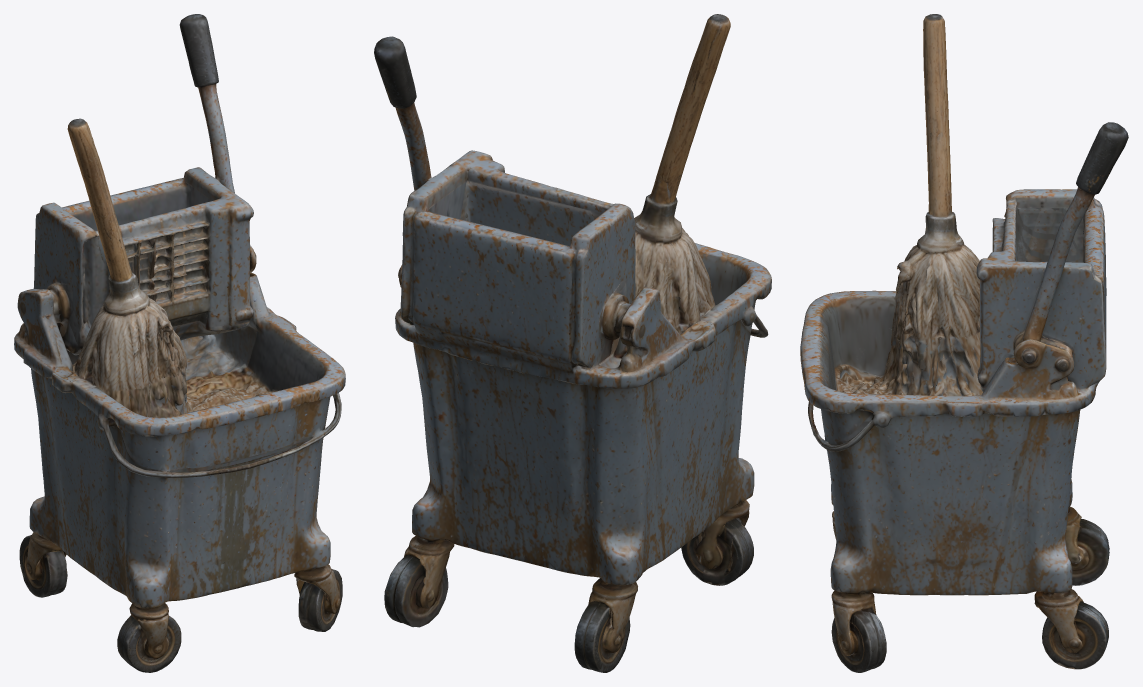
The model's file is MopBucket.fbx.
3 views of the same model, side by side, from view 1: azimuth 30°, elevation 25°; view 2: azimuth 150°, elevation 25°; view 3: azimuth 270°, elevation 25° (orthographic). The views are drawn at different scales.
Visible parts, largest first — view 1: texture_mapping; view 2: texture_mapping; view 3: texture_mapping.
Part boxes in pixels (left/top/right/bottom): texture_mapping: left=14, top=14, right=345, bottom=672; texture_mapping: left=374, top=14, right=771, bottom=672; texture_mapping: left=800, top=14, right=1128, bottom=672.
Size of the model in its own units: 0.4783 by 0.542 by 1.
1 material, 1 textured.
